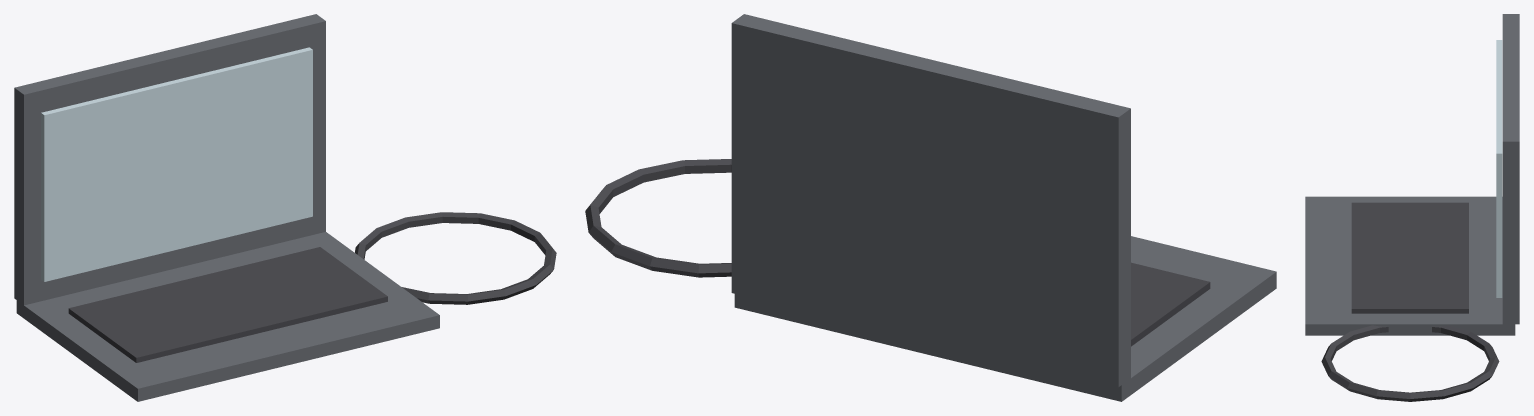
Rendered from bank-vault-heist-kit-laptop-with-cable-28affb3b__25132.glb.
3 views of the same model, side by side, from view 1: azimuth 30°, elevation 25°; view 2: azimuth 150°, elevation 25°; view 3: azimuth 270°, elevation 25° (orthographic). The views are drawn at different scales.
Parts seen in each view (by area): view 1: laptop-with-cable; view 2: laptop-with-cable; view 3: laptop-with-cable.
Part boxes in pixels (x1,y1,x2,y2): laptop-with-cable: (14, 14, 556, 401); laptop-with-cable: (585, 14, 1276, 401); laptop-with-cable: (1305, 14, 1519, 401).
Size of the model in its own units: 0.556 by 0.255 by 0.255.
